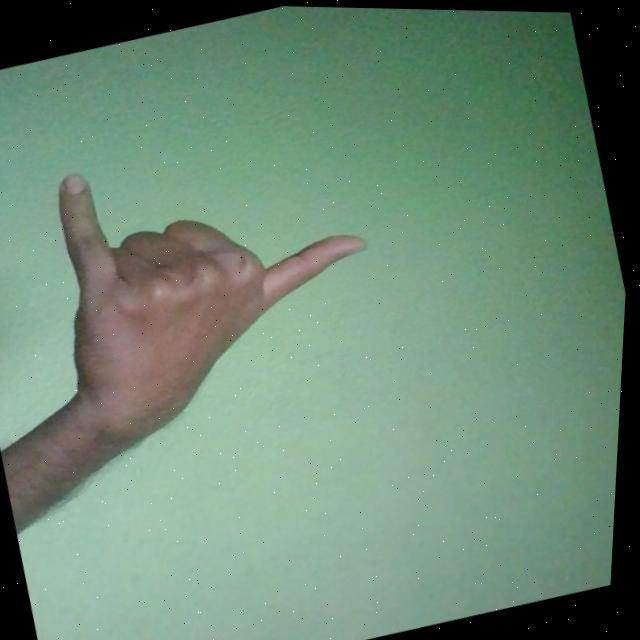Call Me: (24, 104, 410, 457)
